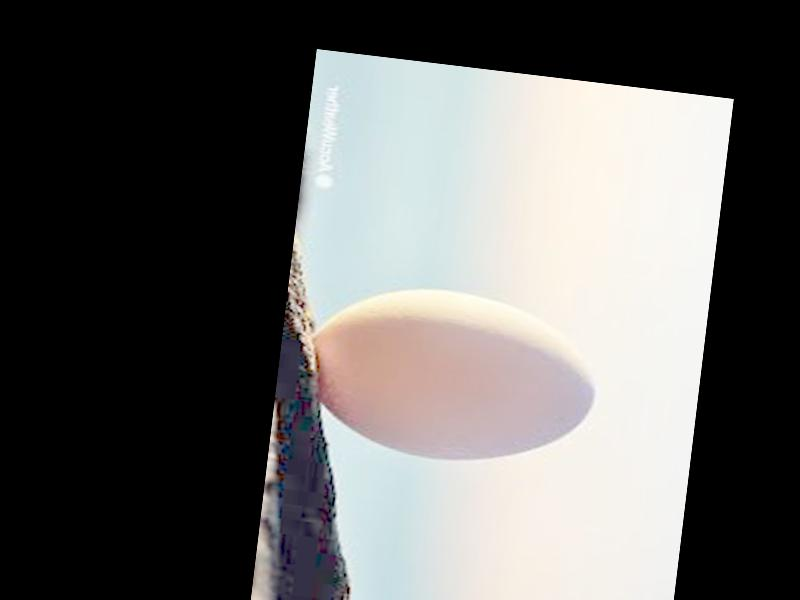Eggs: (304, 275, 607, 477)
